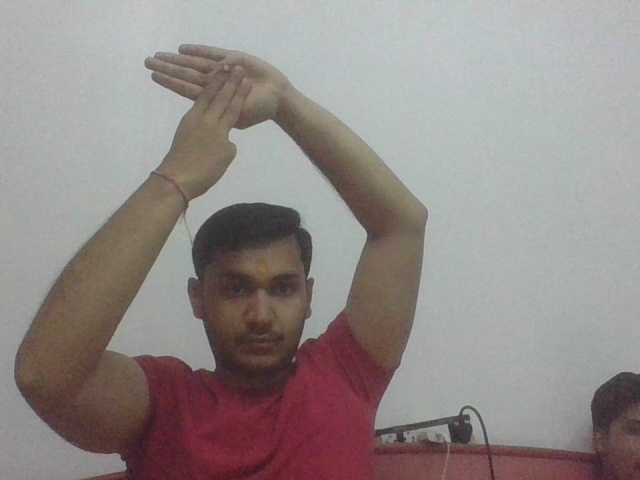M: (144, 40, 283, 164)
